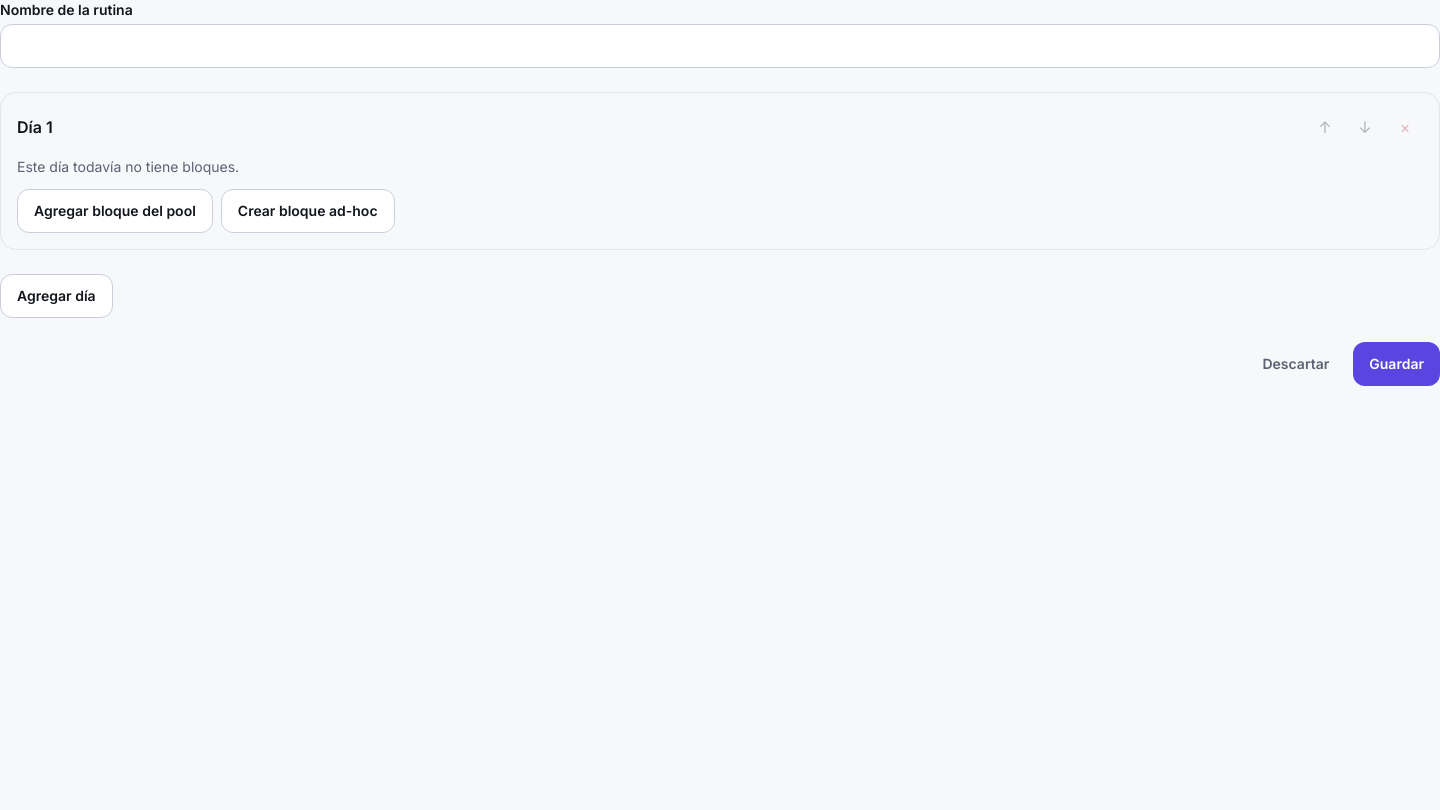
Test case: RoutineEditor — rutina nueva › descartar con cambios sin guardar pide confirmación
Step 1. Type "Algo" into the field labelled "Nombre de la rutina" → (720, 46), box [0,24,1439,68]
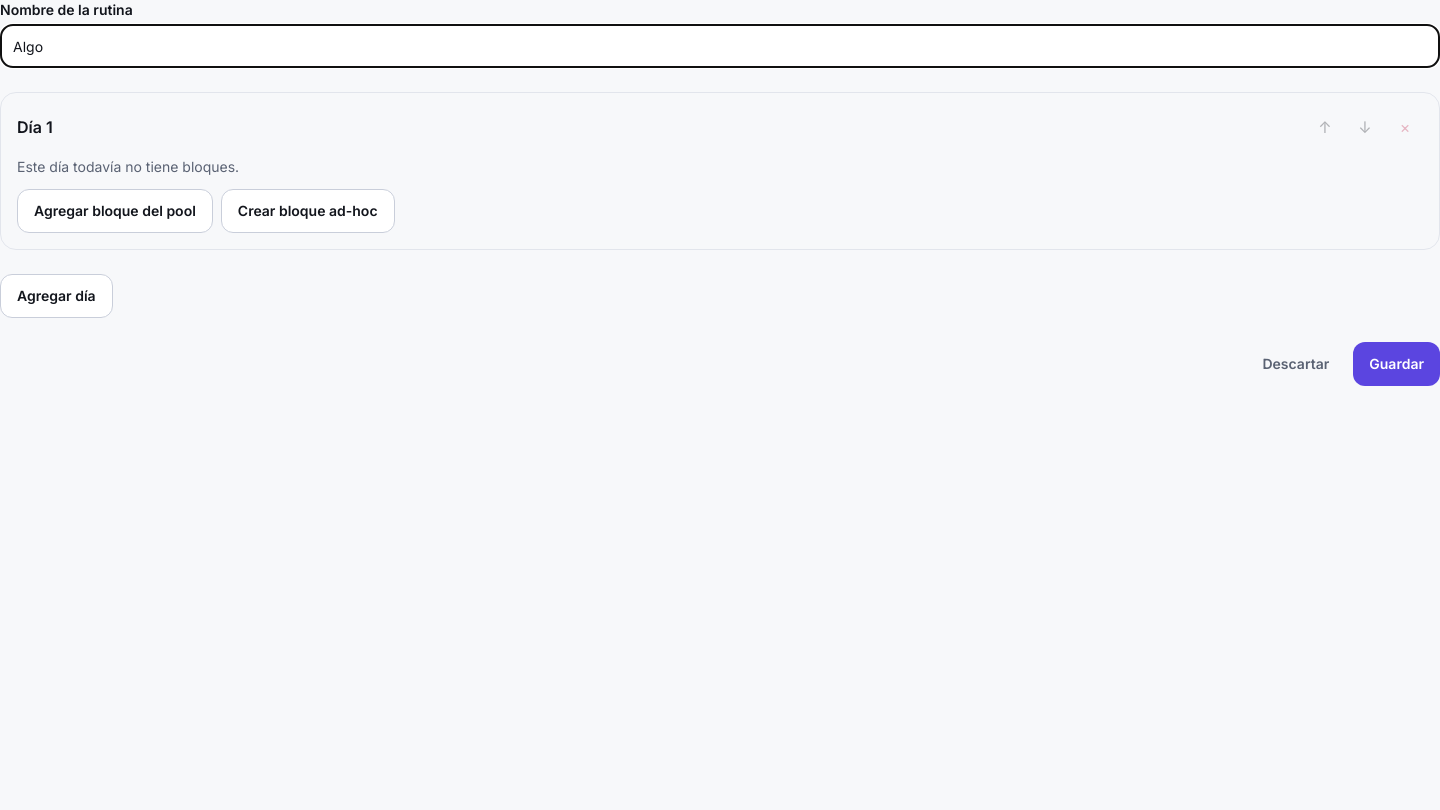
Step 2. Click the button "Descartar" → click(1296, 364), box [1246,342,1345,386]
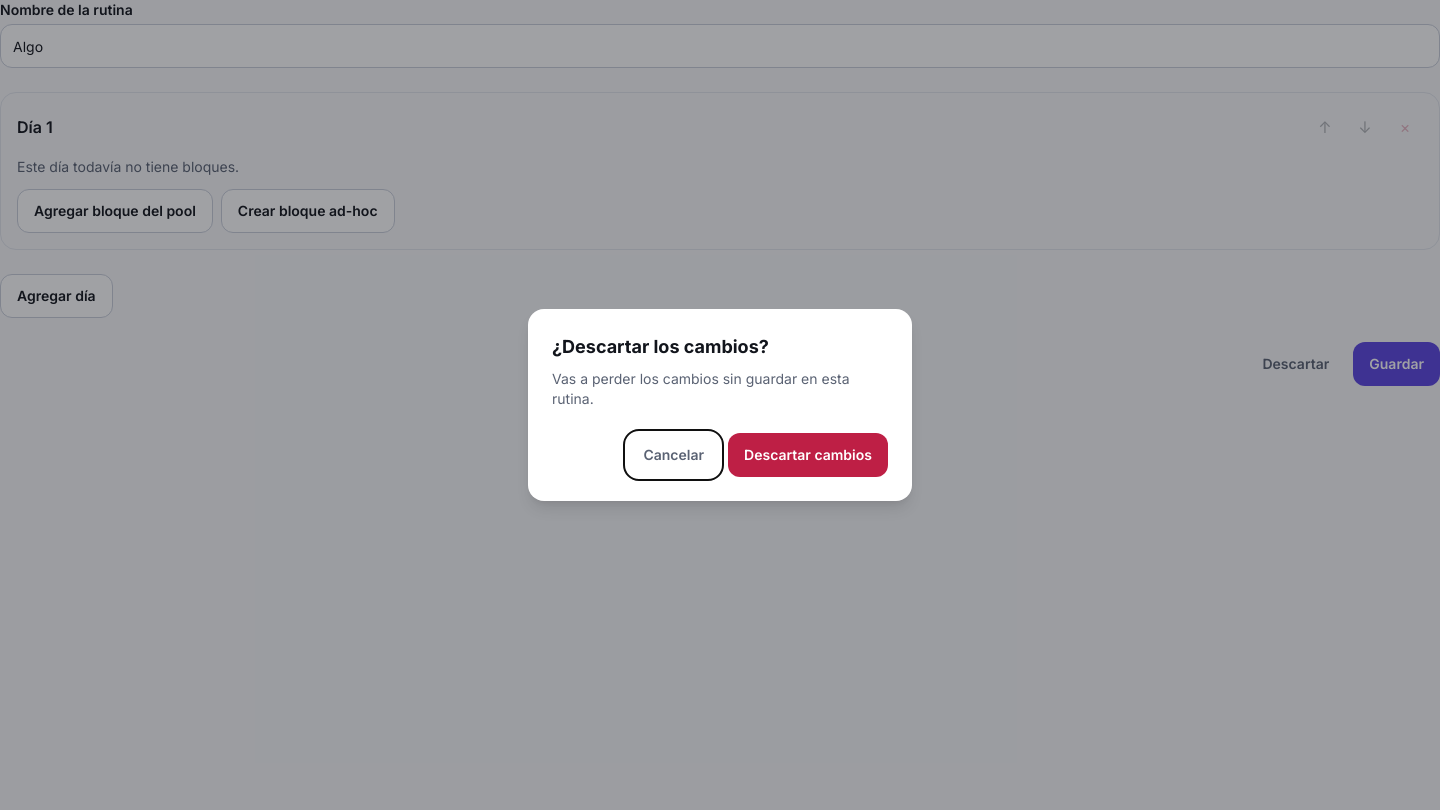
Now the dialog is shown, box [528,309,912,501]
